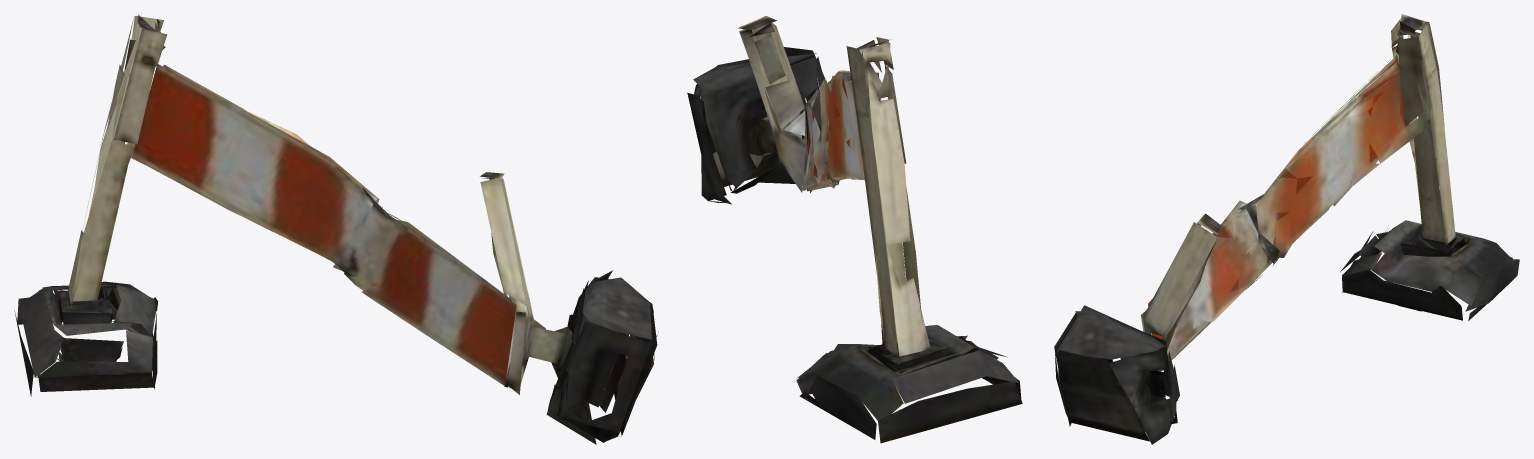
The model's file is hafen_absperrung_kaputt_lo.glb.
3 renders of one model, left to right at view 1: azimuth 30°, elevation 25°; view 2: azimuth 150°, elevation 25°; view 3: azimuth 270°, elevation 25°, orthographic. The views are drawn at different scales.
Parts seen in each view (by area): view 1: Prop; view 2: Prop; view 3: Prop.
Part boxes in pixels (x1,y1,x2,y2): Prop: [14, 14, 658, 444]; Prop: [687, 16, 1022, 443]; Prop: [1054, 14, 1519, 444].
Bounding box in the file's own units: 1.4 × 1 × 1.43.
1 material, 1 textured.
